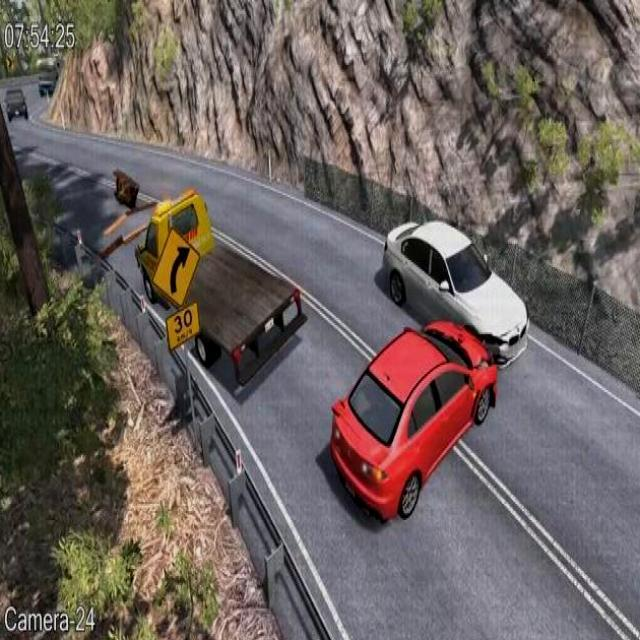accident: (323, 207, 534, 522)
